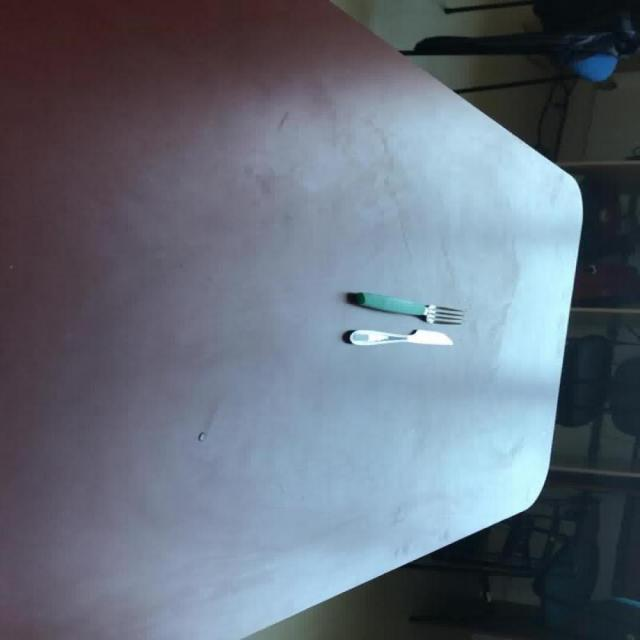Fork: (346, 290, 464, 324)
Knife: (347, 290, 464, 324), (342, 328, 454, 346)
